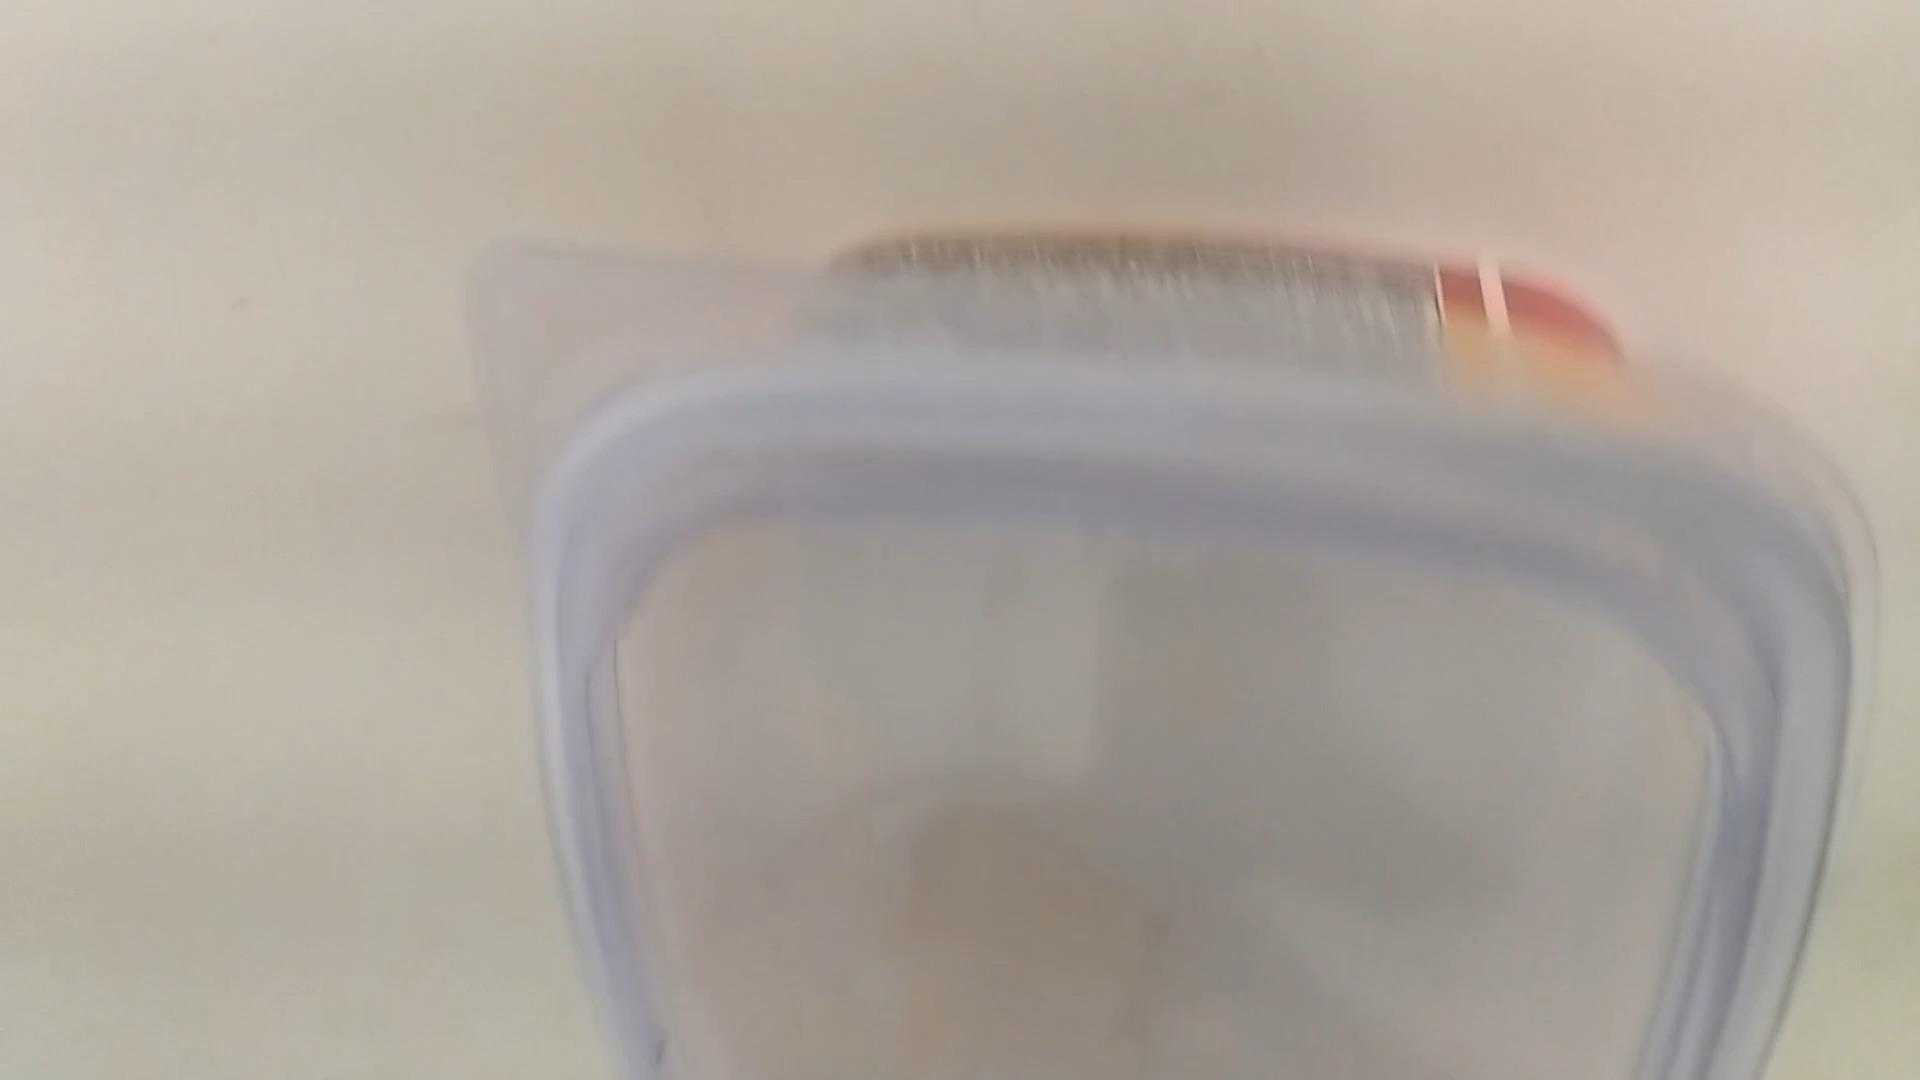butter: (460, 233, 1870, 1080)
